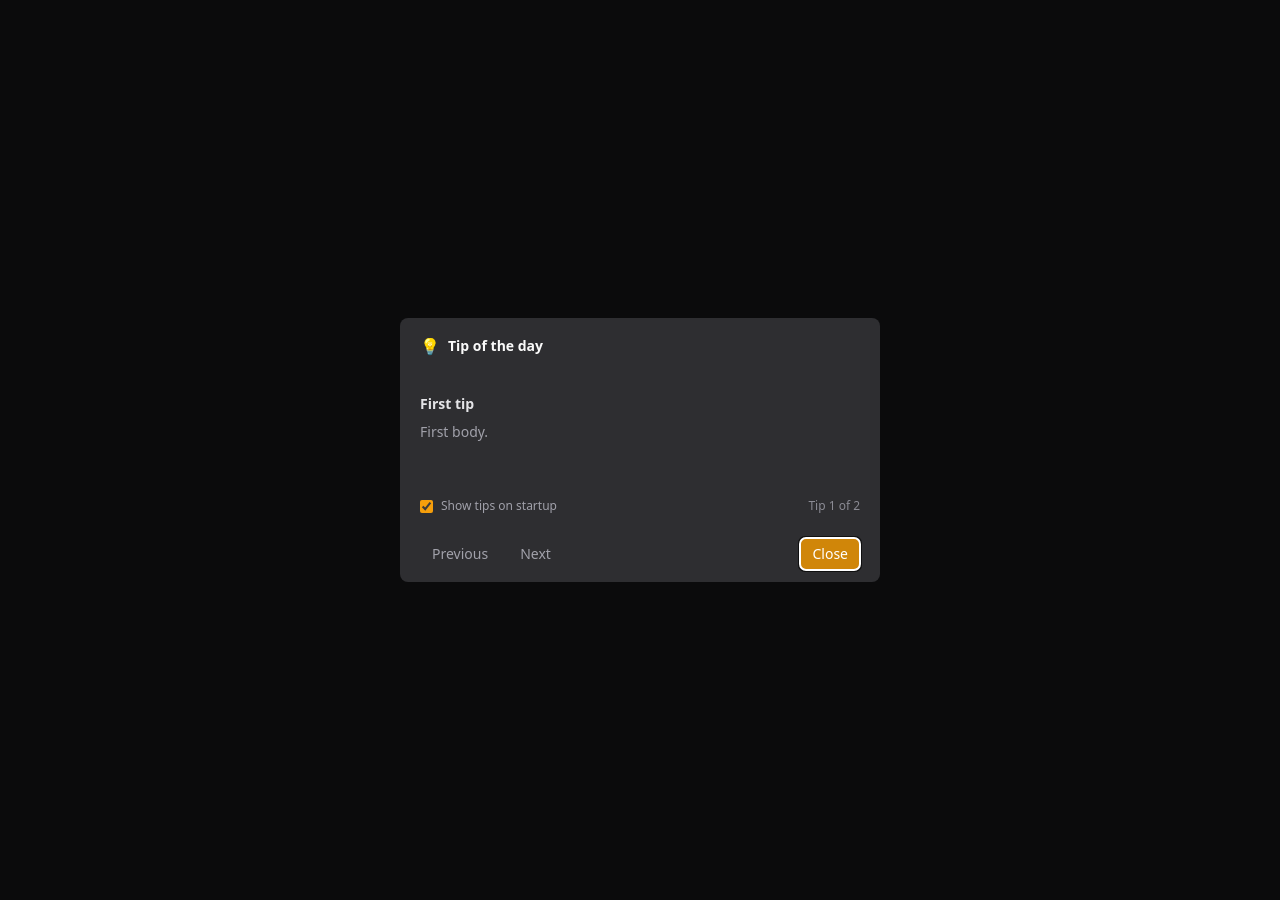
Test: TipsModal (tip of the day) › cycles to the next tip and marks it seen
What coordinates should you click on to do the following:
click the button "Next"
I would click on:
 (535, 554)
Its box is [508,538,563,570].
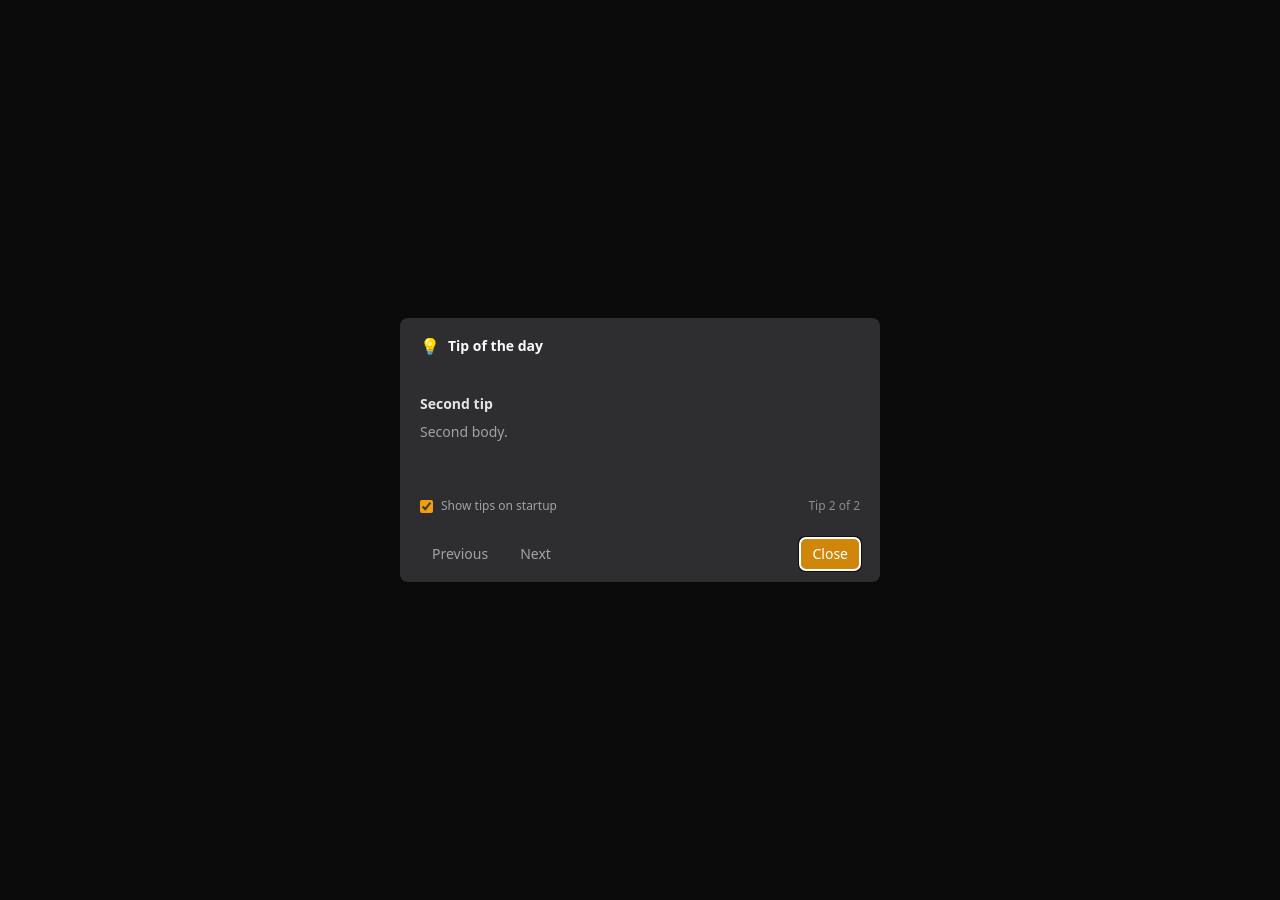
Now the heading "Second tip" is shown, box [420,394,493,413]
